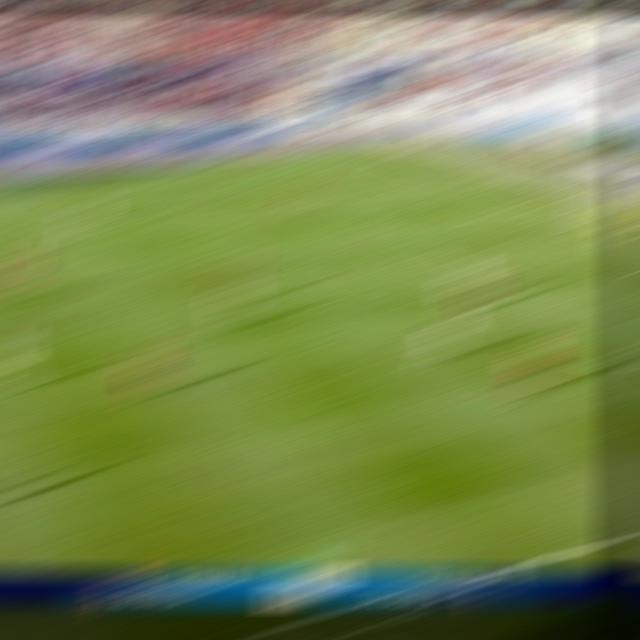bigarea_bottom_inner: (590, 349, 632, 370)
bigarea_top_inner: (280, 193, 315, 202)
bigarea_top_outter: (452, 174, 488, 181)
bottom_arc_area_intersection: (476, 296, 511, 305)
corner: (378, 149, 415, 155)
smallarea_top_inner: (472, 208, 506, 215)
smallarea_top_outter: (529, 198, 564, 206)
top_arc_area_intersection: (346, 227, 382, 237)
